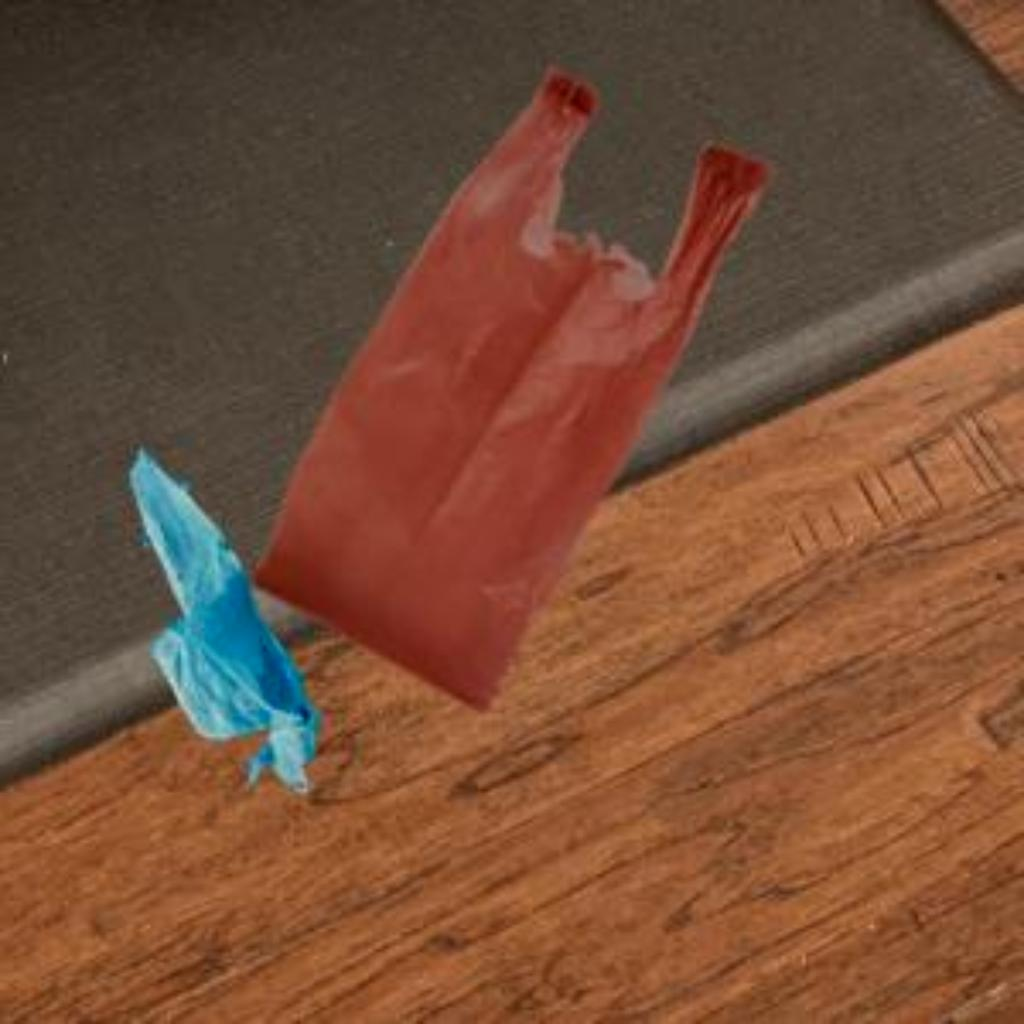garbage: (323, 61, 698, 686), (102, 416, 345, 840)
